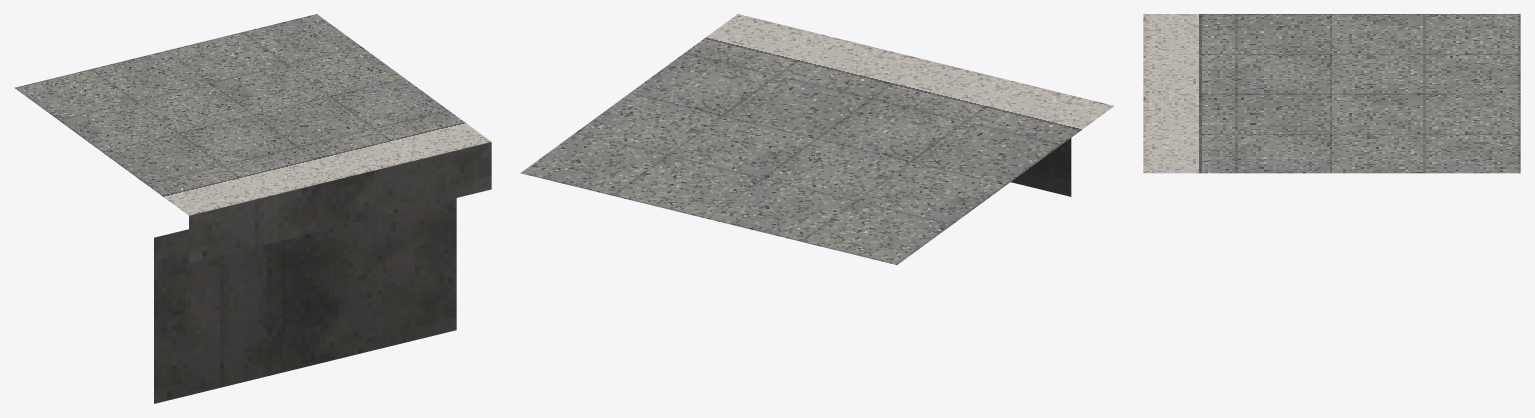
File: platform_edge.glb
3 renders of one model, left to right at view 1: azimuth 30°, elevation 25°; view 2: azimuth 150°, elevation 25°; view 3: azimuth 270°, elevation 25°, orthographic. The views are drawn at different scales.
Parts seen in each view (by area): view 1: platform_edge; view 2: platform_edge; view 3: platform_edge.
Part boxes in pixels (x1,y1,x2,y2): platform_edge: [14, 14, 491, 403]; platform_edge: [520, 14, 1113, 264]; platform_edge: [1143, 14, 1520, 173].
Bounding box in the file's own units: 2 × 1.35 × 2.
3 materials, 3 textured.
